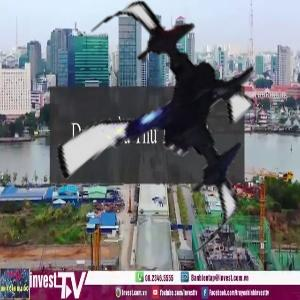drone: (33, 1, 289, 257)
